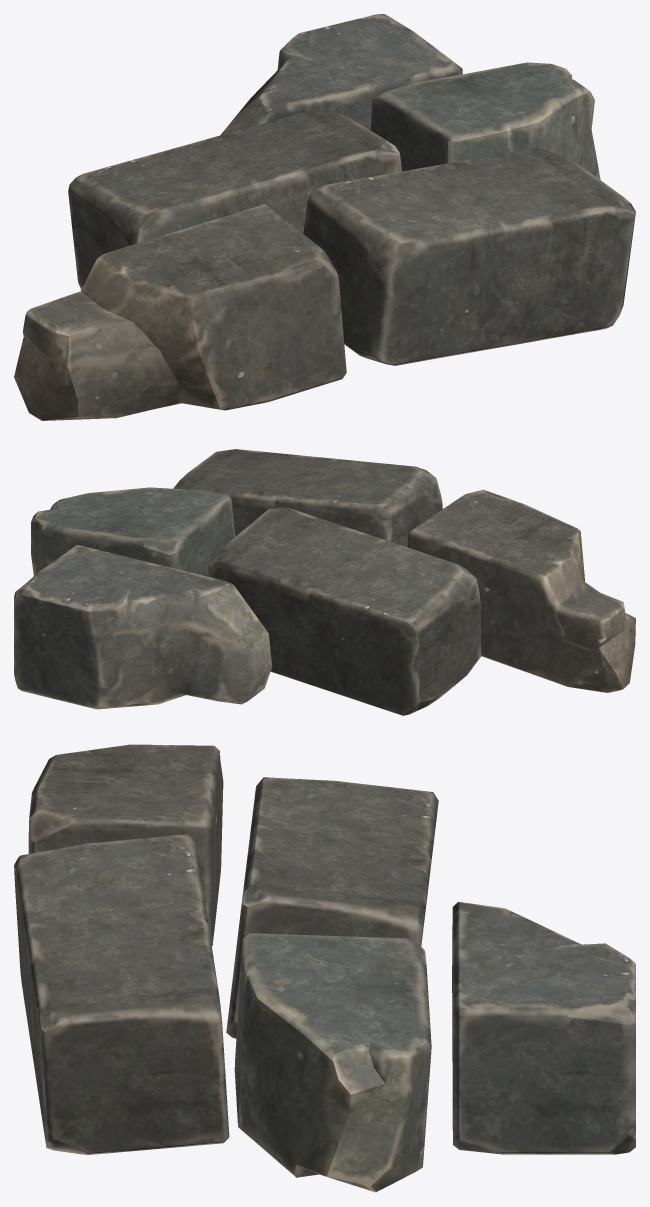
The picture shows the model from 3 angles, top to bottom: view 1: azimuth 30°, elevation 25°; view 2: azimuth 150°, elevation 25°; view 3: azimuth 270°, elevation 25°; orthographic projection. The views are drawn at different scales.
Visible parts, largest first — view 1: SM_SaradominTemple_BrickCluster_01_LOD0; view 2: SM_SaradominTemple_BrickCluster_01_LOD0; view 3: SM_SaradominTemple_BrickCluster_01_LOD0.
Part boxes in pixels (x1=…): SM_SaradominTemple_BrickCluster_01_LOD0: x1=14, y1=14, x2=635, y2=420; SM_SaradominTemple_BrickCluster_01_LOD0: x1=14, y1=449, x2=635, y2=715; SM_SaradominTemple_BrickCluster_01_LOD0: x1=14, y1=744, x2=635, y2=1192.
Bounding box in the file's own units: 2.95 × 0.6899 × 2.11.
Materials: 1 (1 with a texture image).
